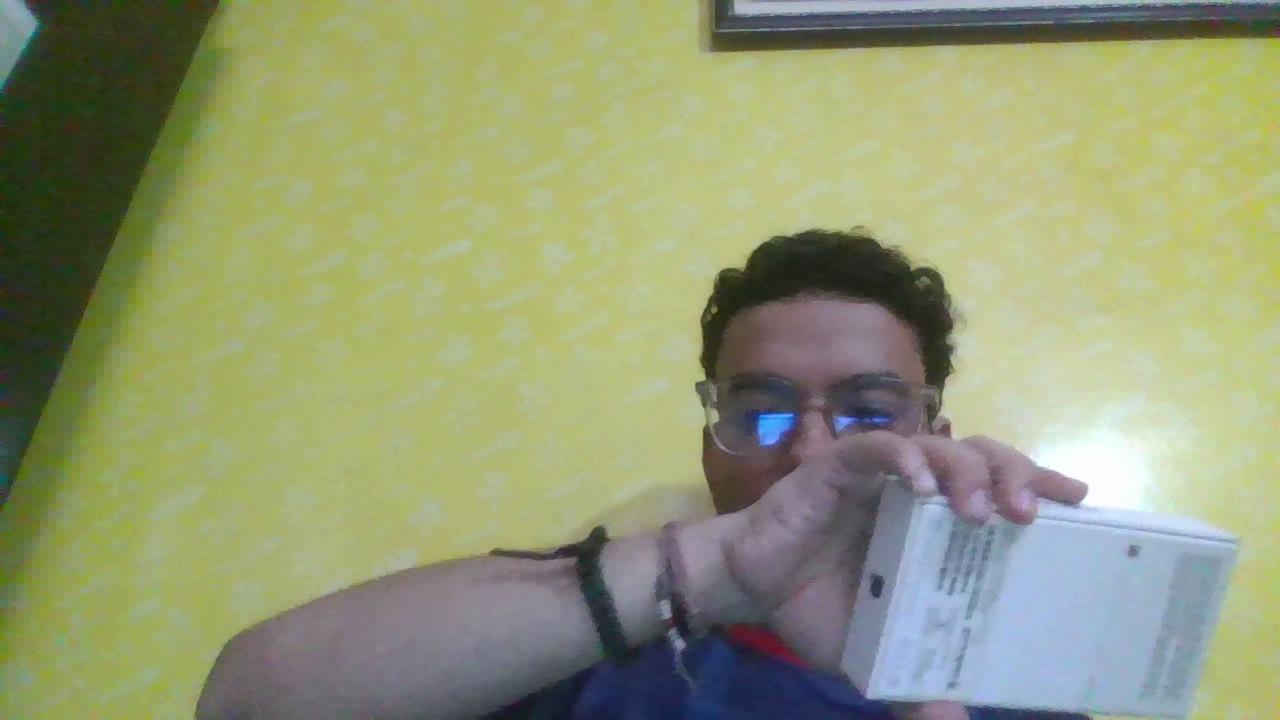Phone: (829, 460, 1229, 715)
